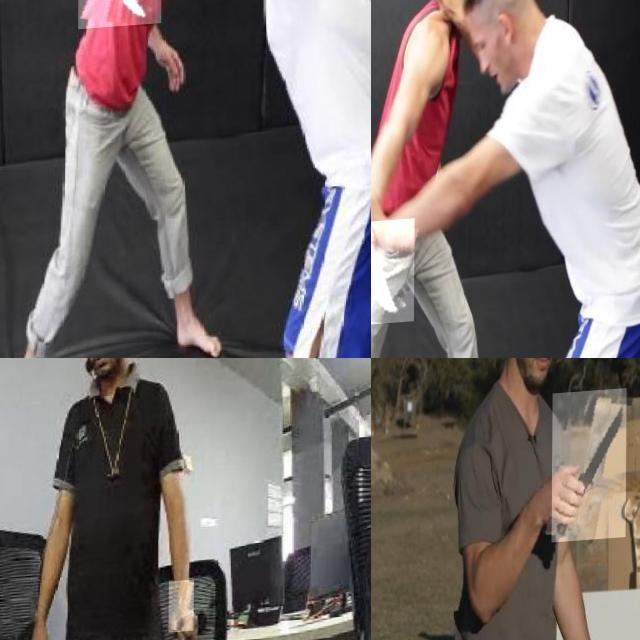-: (552, 394, 626, 547), (371, 222, 415, 329), (78, 0, 162, 45), (170, 587, 194, 639)
